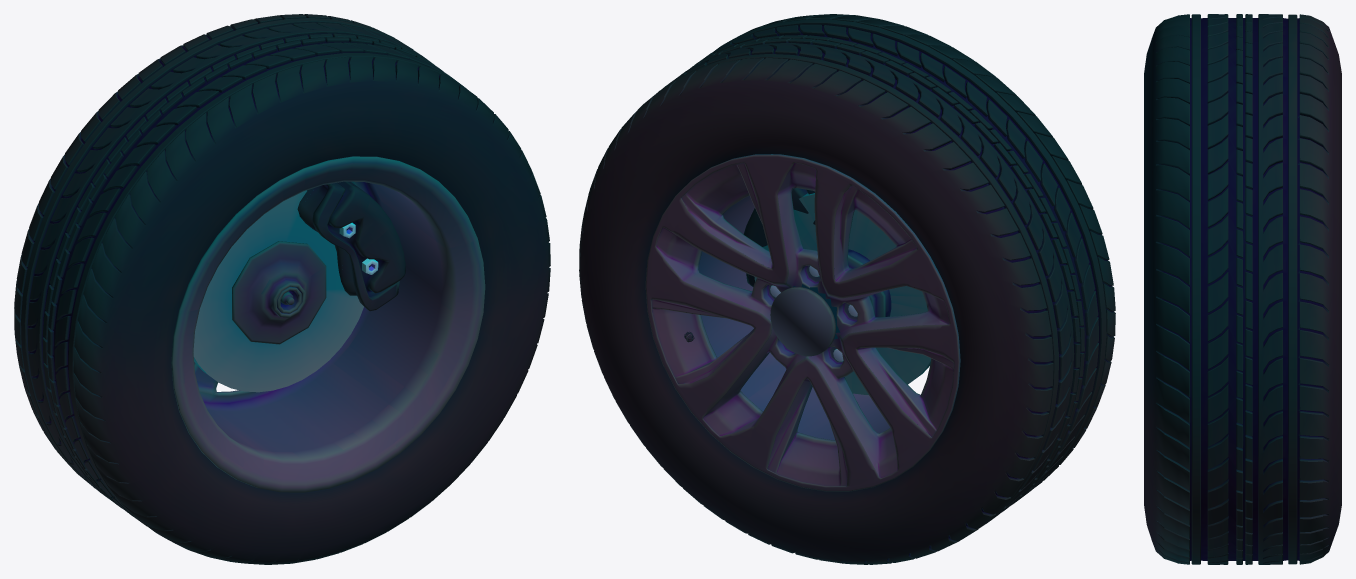
The model's file is wheel_FR.glb.
3 views of the same model, side by side, from view 1: azimuth 30°, elevation 25°; view 2: azimuth 150°, elevation 25°; view 3: azimuth 270°, elevation 25° (orthographic).
Visible parts, largest first — view 1: tire_18, rim_second_19, brakedisk_16, black_11, rim_15; view 2: tire_18, rim_second_19, rim_15, brakedisk_16, Blank hub cap.001, black_11; view 3: tire_18.
Boxes of the visible parts, box(x1,y1,x2,y2) form: tire_18: box(14, 14, 550, 564); rim_second_19: box(171, 156, 485, 492); brakedisk_16: box(193, 190, 363, 392); black_11: box(297, 181, 405, 311); rim_15: box(232, 241, 326, 344); tire_18: box(579, 14, 1115, 564); rim_second_19: box(651, 154, 960, 486); rim_15: box(645, 155, 959, 491); brakedisk_16: box(754, 193, 930, 394); Blank hub cap.001: box(770, 287, 835, 356); black_11: box(743, 188, 815, 286); tire_18: box(1144, 14, 1341, 564).
Bounding box in the file's own units: 0.793 × 0.793 × 0.2847.
